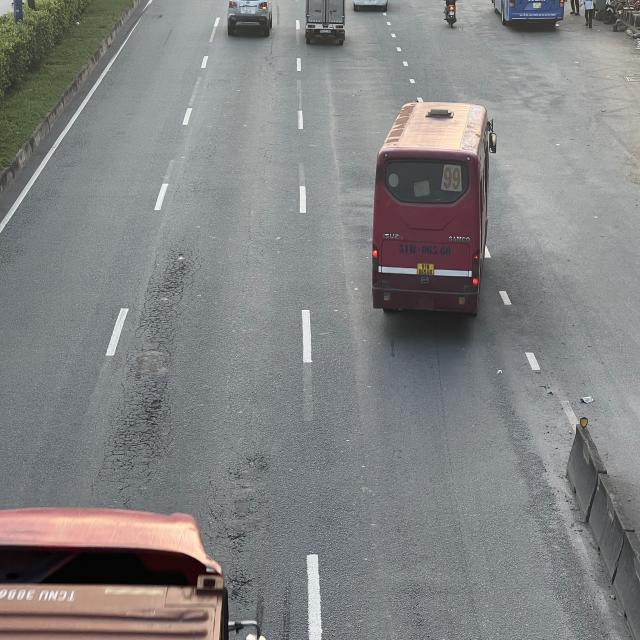car: (227, 0, 276, 35)
coach: (374, 98, 498, 312)
truck: (303, 0, 346, 41)
